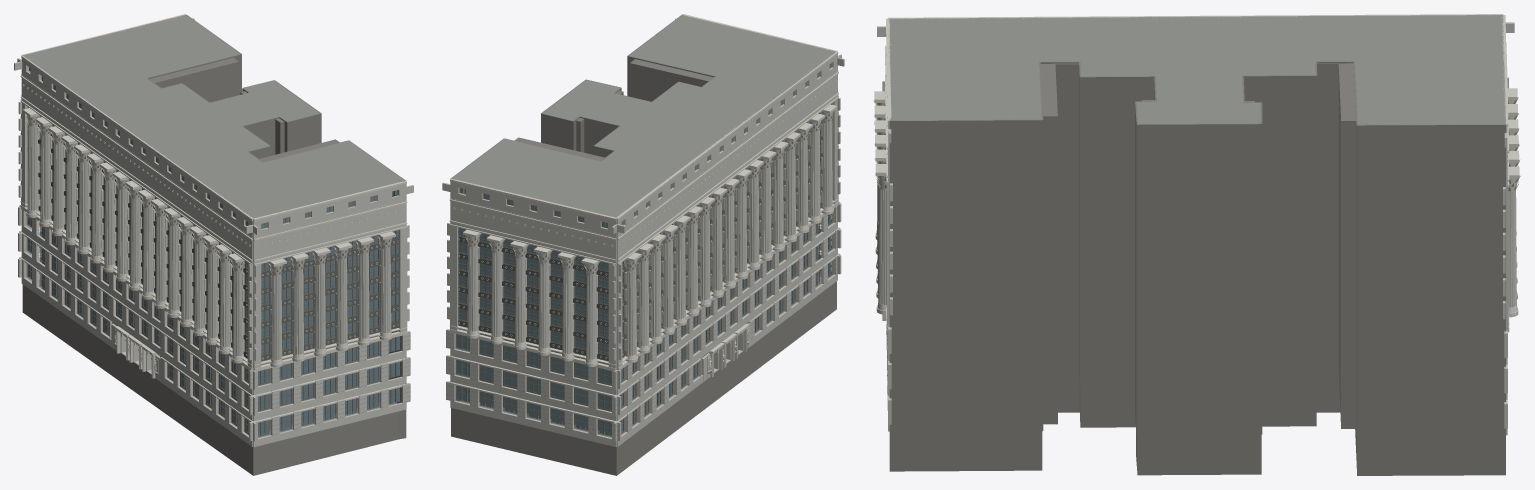
File: city_hall.glb
3 views of the same model, side by side, from view 1: azimuth 30°, elevation 25°; view 2: azimuth 150°, elevation 25°; view 3: azimuth 270°, elevation 25° (orthographic). The views are drawn at different scales.
Visible parts, largest first — view 1: Woodbury grey granite, Roof slab and coping, Opaque recessed backing and unsurveyed courts, Pale granite and terra cotta relief, Dark terra cotta spandrels and sashes, Separate recessed blue grey sash panes; view 2: Woodbury grey granite, Roof slab and coping, Opaque recessed backing and unsurveyed courts, Pale granite and terra cotta relief, Dark terra cotta spandrels and sashes, Separate recessed blue grey sash panes; view 3: Opaque recessed backing and unsurveyed courts, Roof slab and coping, Woodbury grey granite, Pale granite and terra cotta relief.
Boxes of the visible parts, <box> form: Woodbury grey granite: <box>14,18,413,447</box>; Roof slab and coping: <box>23,14,405,218</box>; Opaque recessed backing and unsurveyed courts: <box>22,14,406,475</box>; Pale granite and terra cotta relief: <box>20,14,407,434</box>; Dark terra cotta spandrels and sashes: <box>22,107,410,440</box>; Separate recessed blue grey sash panes: <box>28,67,399,436</box>; Woodbury grey granite: <box>442,18,844,446</box>; Roof slab and coping: <box>452,14,836,217</box>; Opaque recessed backing and unsurveyed courts: <box>450,14,836,475</box>; Pale granite and terra cotta relief: <box>449,14,838,433</box>; Dark terra cotta spandrels and sashes: <box>446,103,836,439</box>; Separate recessed blue grey sash panes: <box>457,63,830,435</box>; Opaque recessed backing and unsurveyed courts: <box>889,61,1505,475</box>; Roof slab and coping: <box>888,15,1505,125</box>; Woodbury grey granite: <box>877,22,1516,435</box>; Pale granite and terra cotta relief: <box>873,14,1520,332</box>.
Size of the model in its own units: 52.18 by 70.48 by 118.
